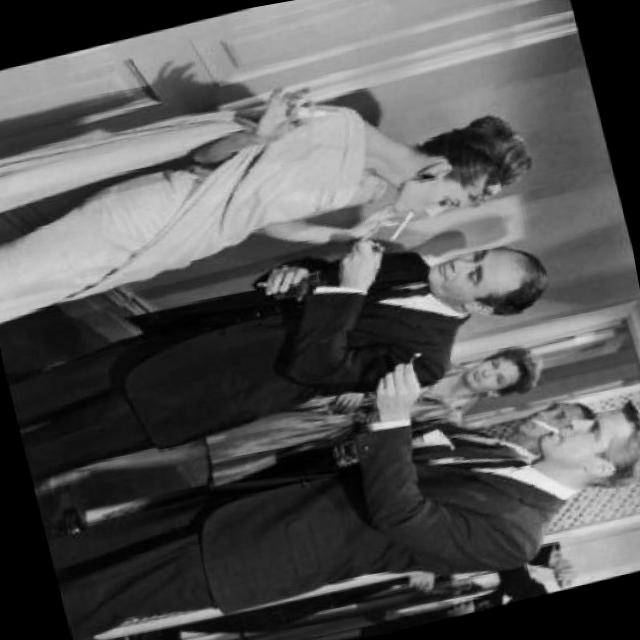cigarette: (381, 208, 420, 242), (526, 410, 563, 440)
